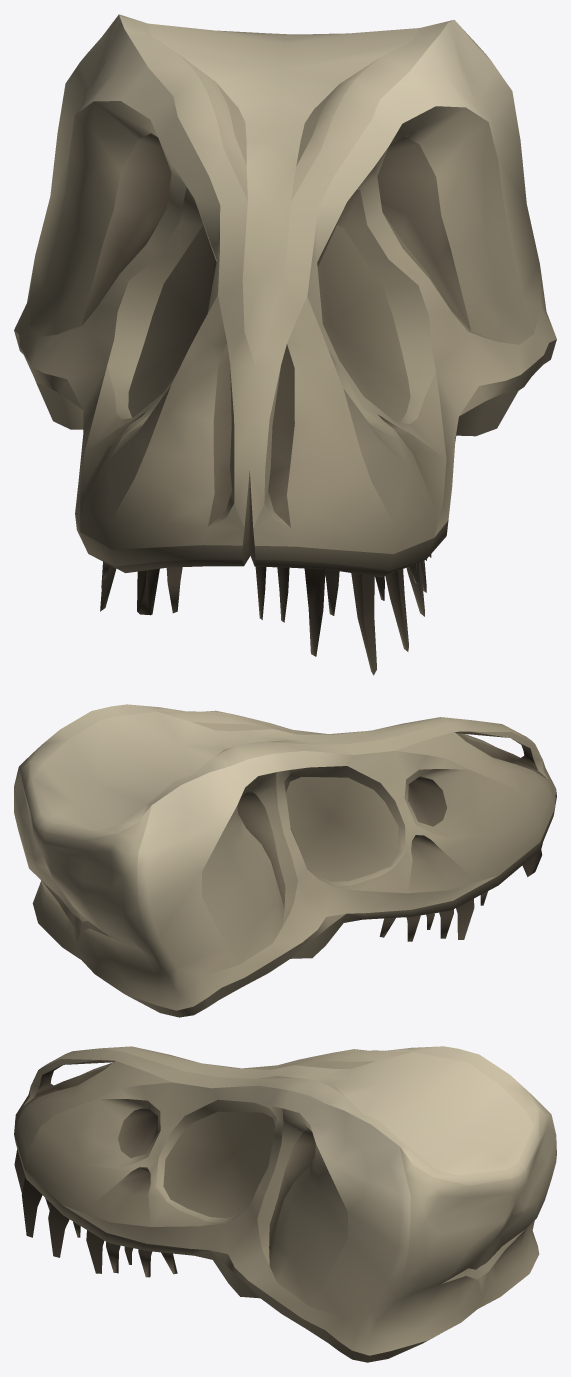
The model's file is Giant_Skull_3B.fbx.
The picture shows the model from 3 angles, top to bottom: view 1: azimuth 30°, elevation 25°; view 2: azimuth 150°, elevation 25°; view 3: azimuth 270°, elevation 25°; orthographic projection. The views are drawn at different scales.
Visible parts, largest first — view 1: Giant_Skull_3B; view 2: Giant_Skull_3B; view 3: Giant_Skull_3B.
Part boxes in pixels (bbox=[...]): Giant_Skull_3B: bbox=[14, 14, 556, 675]; Giant_Skull_3B: bbox=[14, 704, 556, 1017]; Giant_Skull_3B: bbox=[14, 1046, 556, 1362].
Bounding box in the file's own units: 134 × 74.21 × 161.
